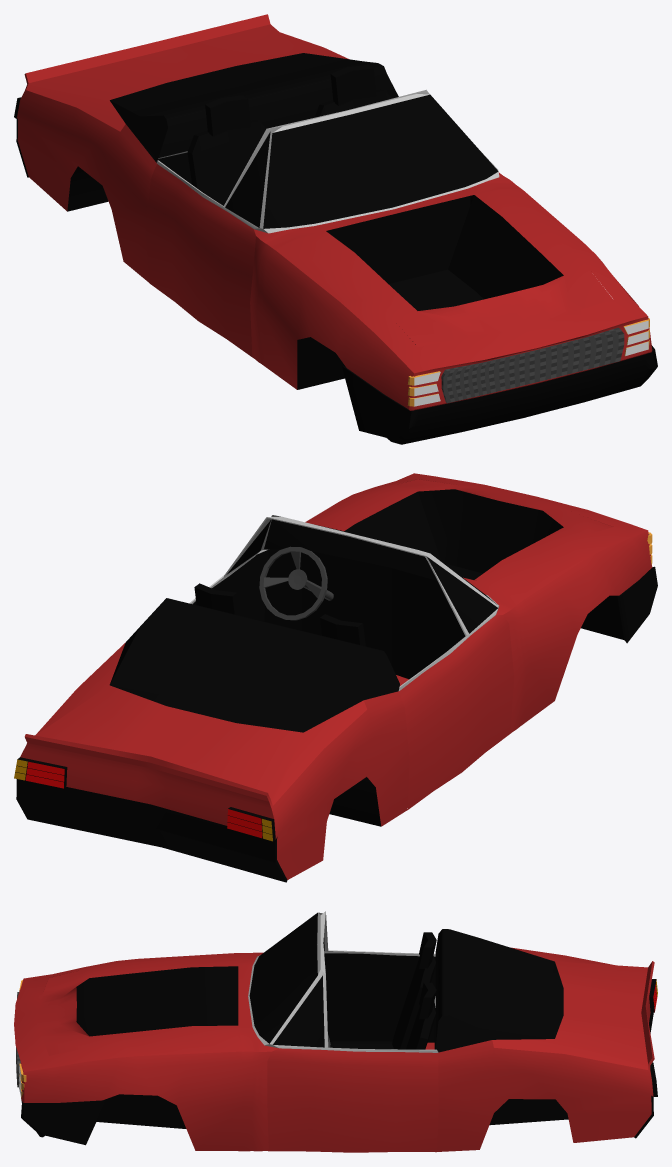
The model's file is Car4.3.fbx.
3 renders of one model, top to bottom at view 1: azimuth 30°, elevation 25°; view 2: azimuth 150°, elevation 25°; view 3: azimuth 270°, elevation 25°, orthographic. The views are drawn at different scales.
Parts seen in each view (by area): view 1: Plane, Plane.004, Cube.001, Plane.002, Cube, Plane.003; view 2: Plane, Plane.004, Plane.001, Circle, Cube.001; view 3: Plane, Plane.004, Cube.001, Plane.001.
Part boxes in pixels (left/top/right/bottom): Plane: left=16, top=14, right=657, bottom=444; Plane.004: left=156, top=89, right=498, bottom=228; Cube.001: left=187, top=64, right=391, bottom=205; Plane.002: left=326, top=196, right=470, bottom=283; Cube: left=441, top=327, right=624, bottom=403; Plane.003: left=407, top=318, right=649, bottom=406; Plane: left=16, top=473, right=657, bottom=882; Plane.004: left=189, top=515, right=498, bottom=690; Plane.001: left=14, top=757, right=275, bottom=841; Circle: left=259, top=546, right=333, bottom=620; Cube.001: left=194, top=583, right=365, bottom=646; Plane: left=14, top=929, right=654, bottom=1152; Plane.004: left=249, top=911, right=438, bottom=1052; Cube.001: left=330, top=932, right=436, bottom=1049; Plane.001: left=649, top=979, right=657, bottom=1096.
Size of the model in its own units: 177 by 117 by 429.
